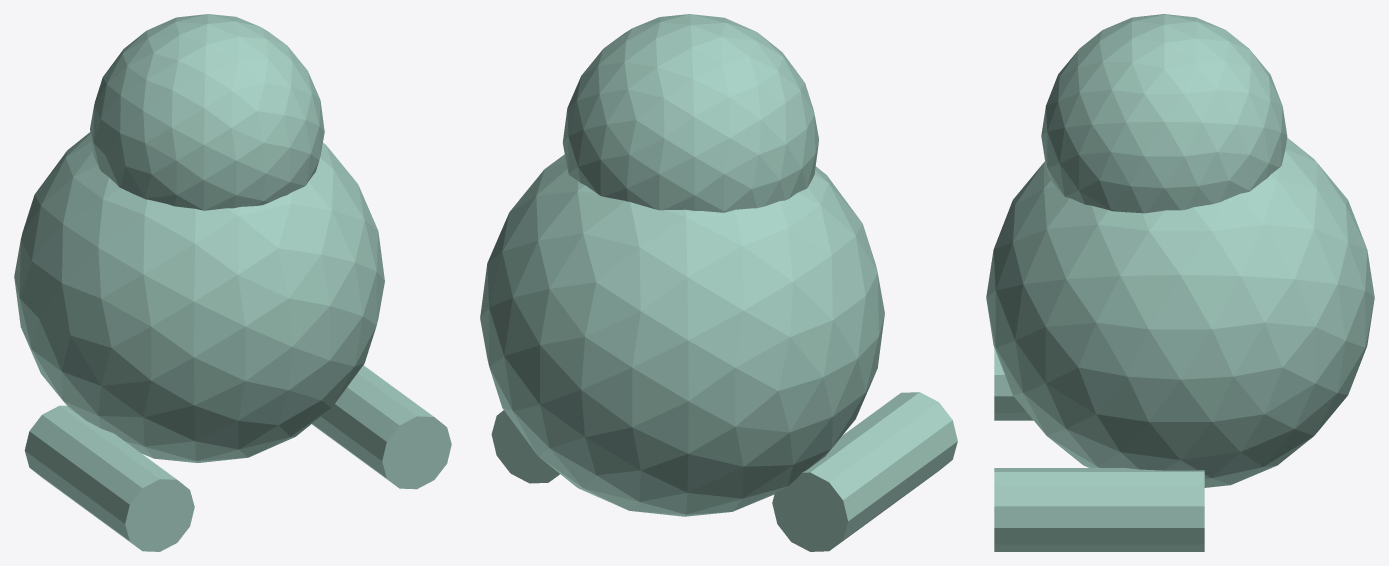
File: luxury_208.glb
3 renders of one model, left to right at view 1: azimuth 30°, elevation 25°; view 2: azimuth 150°, elevation 25°; view 3: azimuth 270°, elevation 25°, orthographic. The views are drawn at different scales.
Visible parts, largest first — view 1: world; view 2: world; view 3: world.
Part boxes in pixels (x1,y1,x2,y2): world: [14, 14, 451, 551]; world: [480, 14, 957, 551]; world: [986, 14, 1374, 551].
Size of the model in its own units: 1.22 by 1.56 by 1.2.
